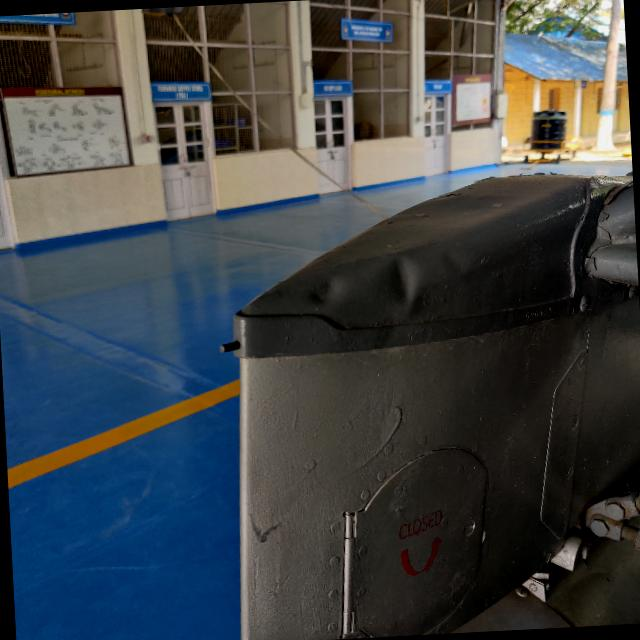dent: (376, 243, 434, 320), (298, 262, 356, 320)
